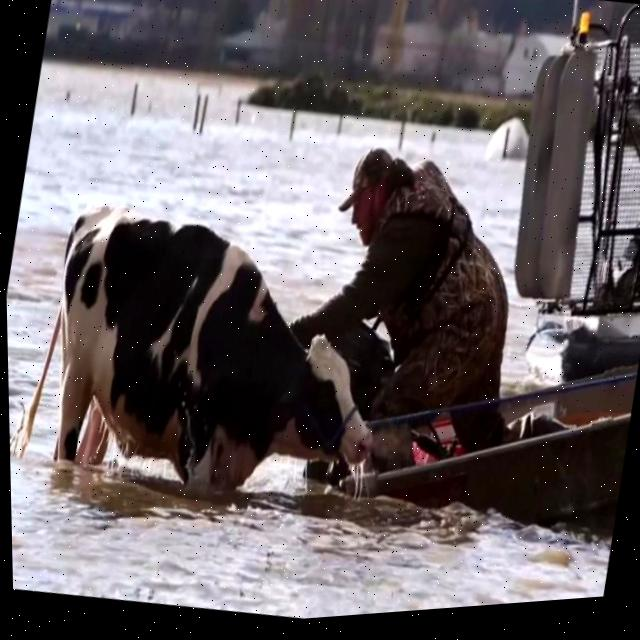civilian: (288, 121, 548, 446)
cow: (9, 177, 413, 538)
